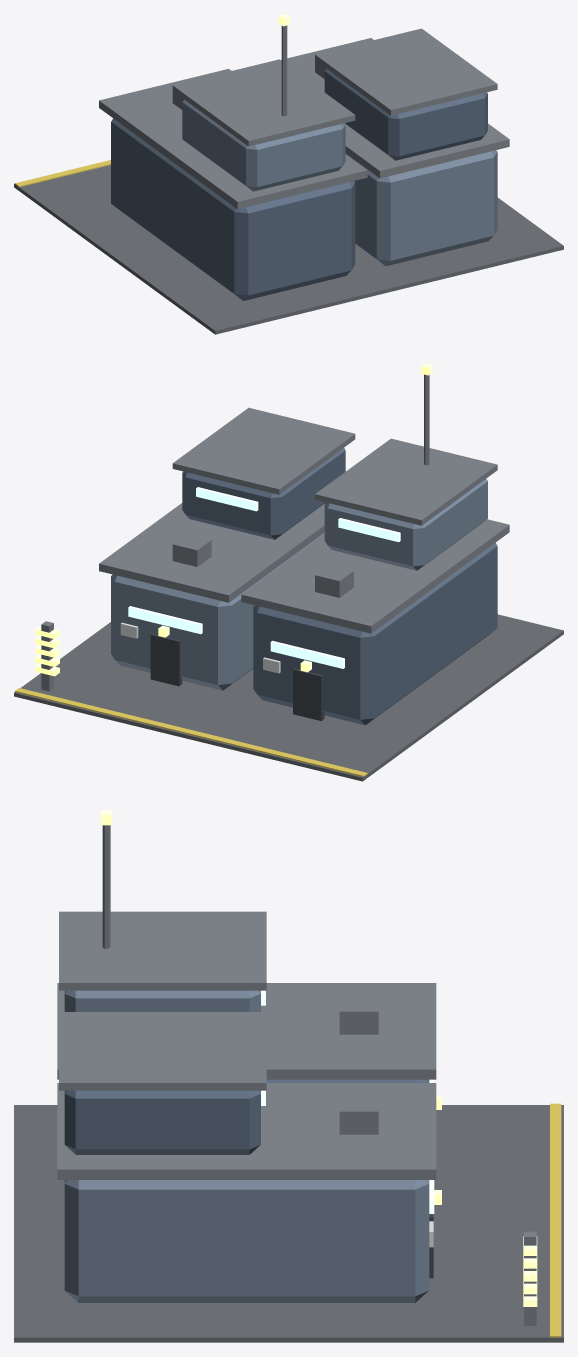
Rendered from zone_low_1_t5.glb.
3 views of the same model, one above another, from view 1: azimuth 30°, elevation 25°; view 2: azimuth 150°, elevation 25°; view 3: azimuth 270°, elevation 25° (orthographic). The views are drawn at different scales.
Parts seen in each view (by area): view 1: zone_low_1_t5, detail; view 2: zone_low_1_t5, detail; view 3: zone_low_1_t5, detail.
Part boxes in pixels (x1,y1,x2,y2): zone_low_1_t5: [14, 28, 563, 334]; detail: [15, 14, 326, 187]; zone_low_1_t5: [14, 407, 563, 781]; detail: [15, 363, 432, 776]; zone_low_1_t5: [14, 911, 563, 1342]; detail: [101, 810, 561, 1337].
Size of the model in its own units: 19.6 by 14.4 by 19.6.
